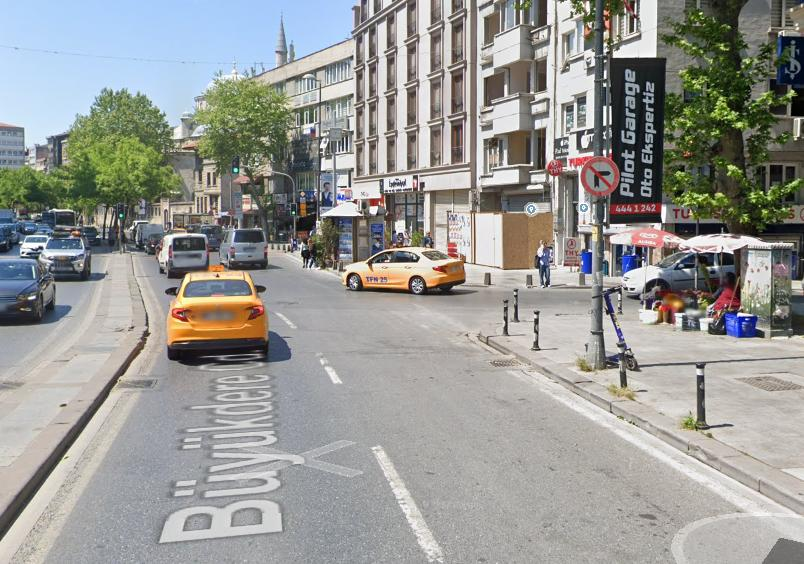greenlight: (231, 154, 241, 173), (118, 203, 125, 219), (290, 203, 297, 216)
rightturnsareforbidden: (581, 159, 618, 197)
